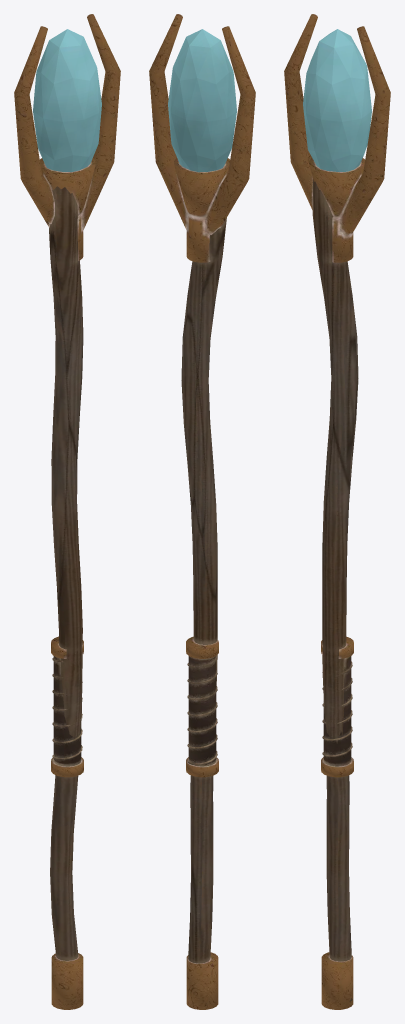
File: eq_staff_2.glb
3 renders of one model, left to right at view 1: azimuth 30°, elevation 25°; view 2: azimuth 150°, elevation 25°; view 3: azimuth 330°, elevation 25°, orthographic.
Visible parts, largest first — view 1: eq_staff_2; view 2: eq_staff_2; view 3: eq_staff_2.
Boxes of the visible parts, box(x1,y1,x2,y2) form: eq_staff_2: box(14, 14, 120, 1009); eq_staff_2: box(149, 14, 255, 1009); eq_staff_2: box(284, 14, 390, 1009).
Size of the model in its own units: 0.2179 by 1.95 by 0.1196.
Materials: 1 (1 with a texture image).
